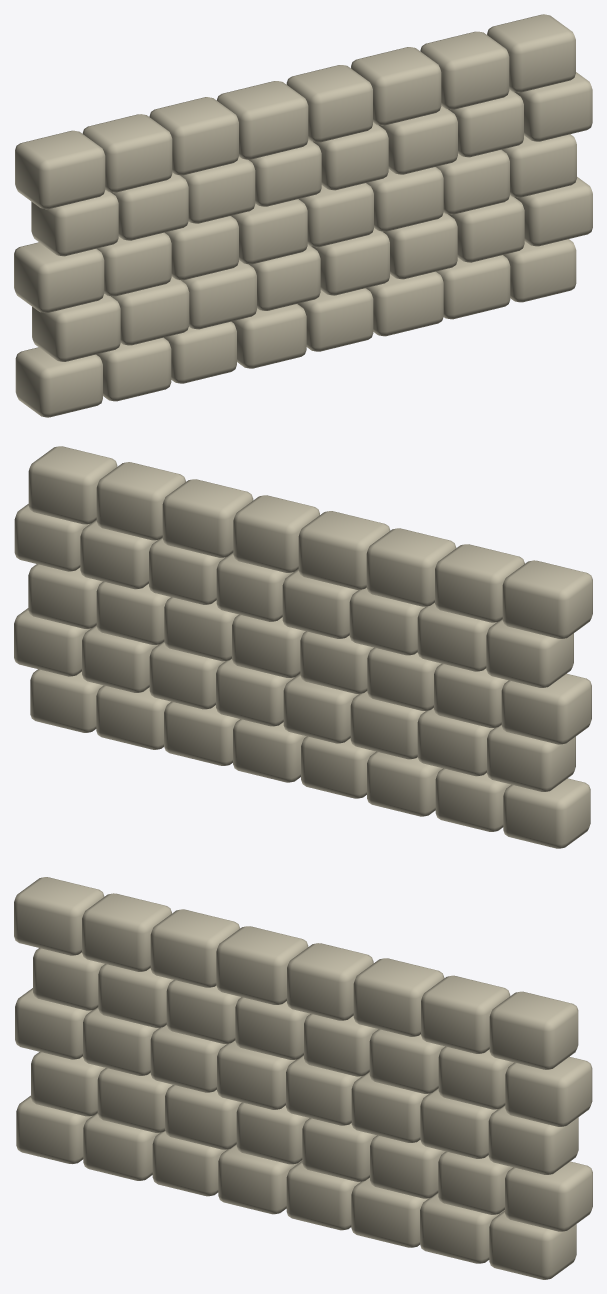
File: SM_StoneWall.fbx
The picture shows the model from 3 angles, top to bottom: view 1: azimuth 30°, elevation 25°; view 2: azimuth 150°, elevation 25°; view 3: azimuth 330°, elevation 25°; orthographic projection.
Parts seen in each view (by area): view 1: SM_StoneWall; view 2: SM_StoneWall; view 3: SM_StoneWall.
Part boxes in pixels (x1,y1,x2,y2): SM_StoneWall: (14,14,592,417); SM_StoneWall: (14,446,592,848); SM_StoneWall: (14,877,592,1279).
Bounding box in the file's own units: 410 × 42.81 × 183.
